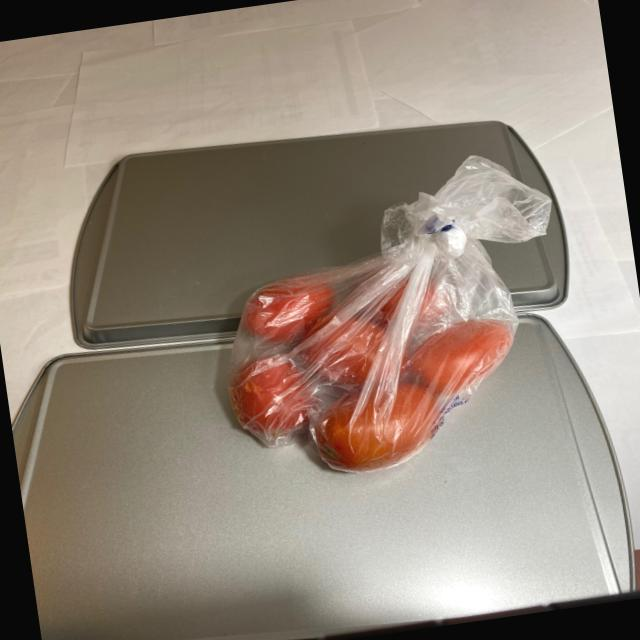tomato: (216, 238, 538, 490)
